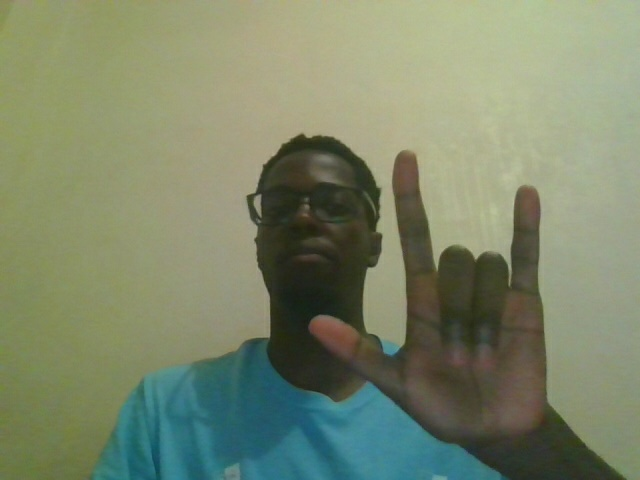I Love You: (304, 134, 637, 479)
